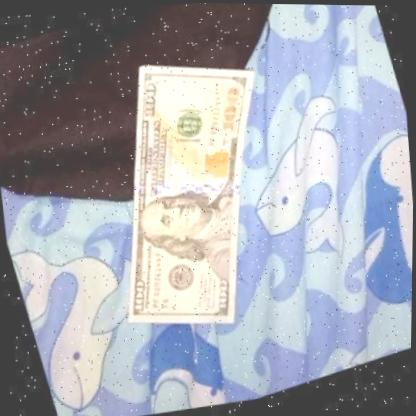one_hundred-front: (49, 20, 332, 367)
